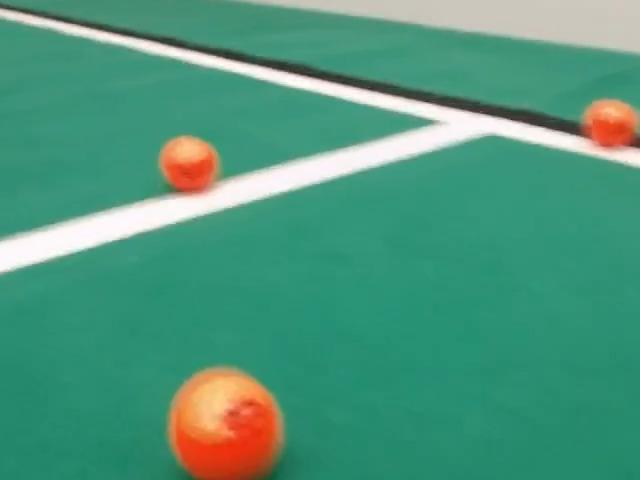Ball: (168, 368, 284, 479), (159, 136, 218, 191), (582, 99, 639, 147)
